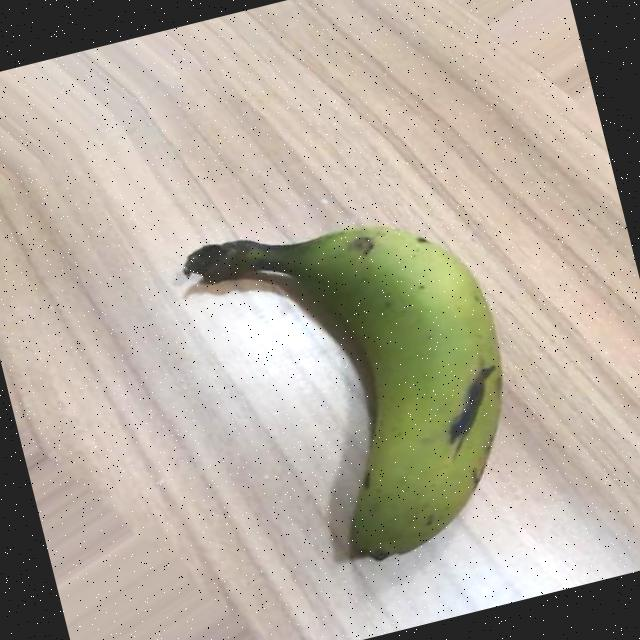Unripe: (175, 179, 545, 592)
